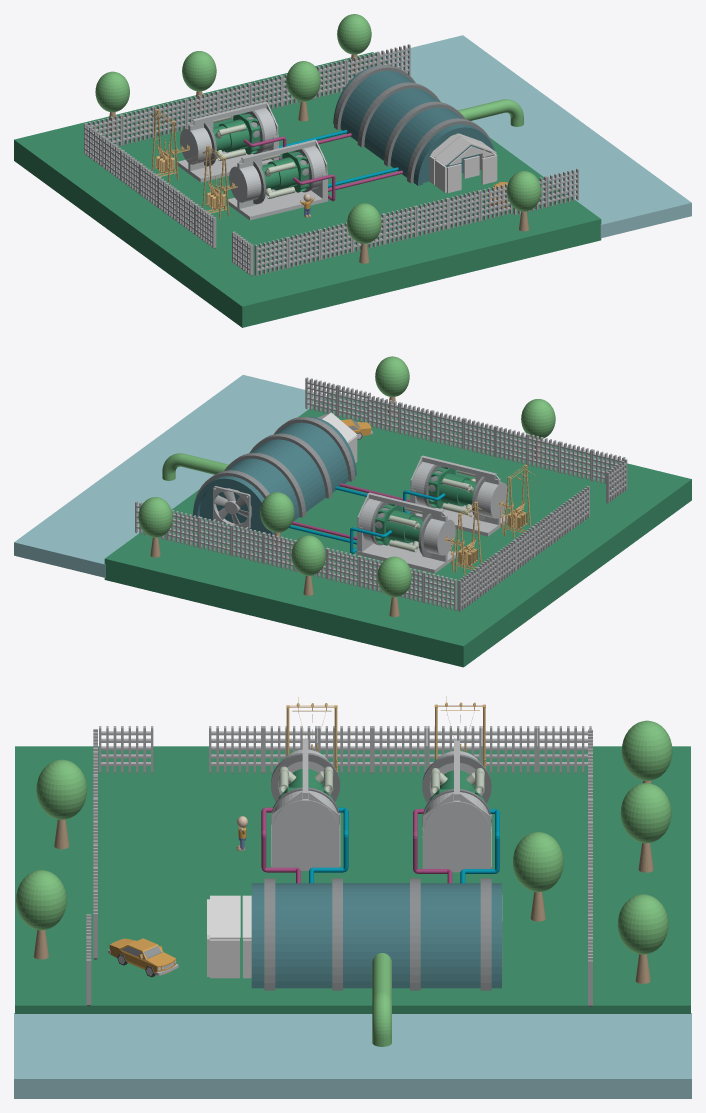
Rendered from smart_city.glb.
3 views of the same model, one above another, from view 1: azimuth 30°, elevation 25°; view 2: azimuth 150°, elevation 25°; view 3: azimuth 270°, elevation 25° (orthographic). The views are drawn at different scales.
Visible parts, largest first — view 1: Mesh_Mesh_head_geo.001_lambert2SG.001; view 2: Mesh_Mesh_head_geo.001_lambert2SG.001; view 3: Mesh_Mesh_head_geo.001_lambert2SG.001.
Part boxes in pixels (x1,y1,x2,y2): Mesh_Mesh_head_geo.001_lambert2SG.001: (14, 14, 691, 327); Mesh_Mesh_head_geo.001_lambert2SG.001: (14, 356, 691, 667); Mesh_Mesh_head_geo.001_lambert2SG.001: (14, 696, 691, 1098).
Bounding box in the file's own units: 0.776 × 0.14 × 0.685.
